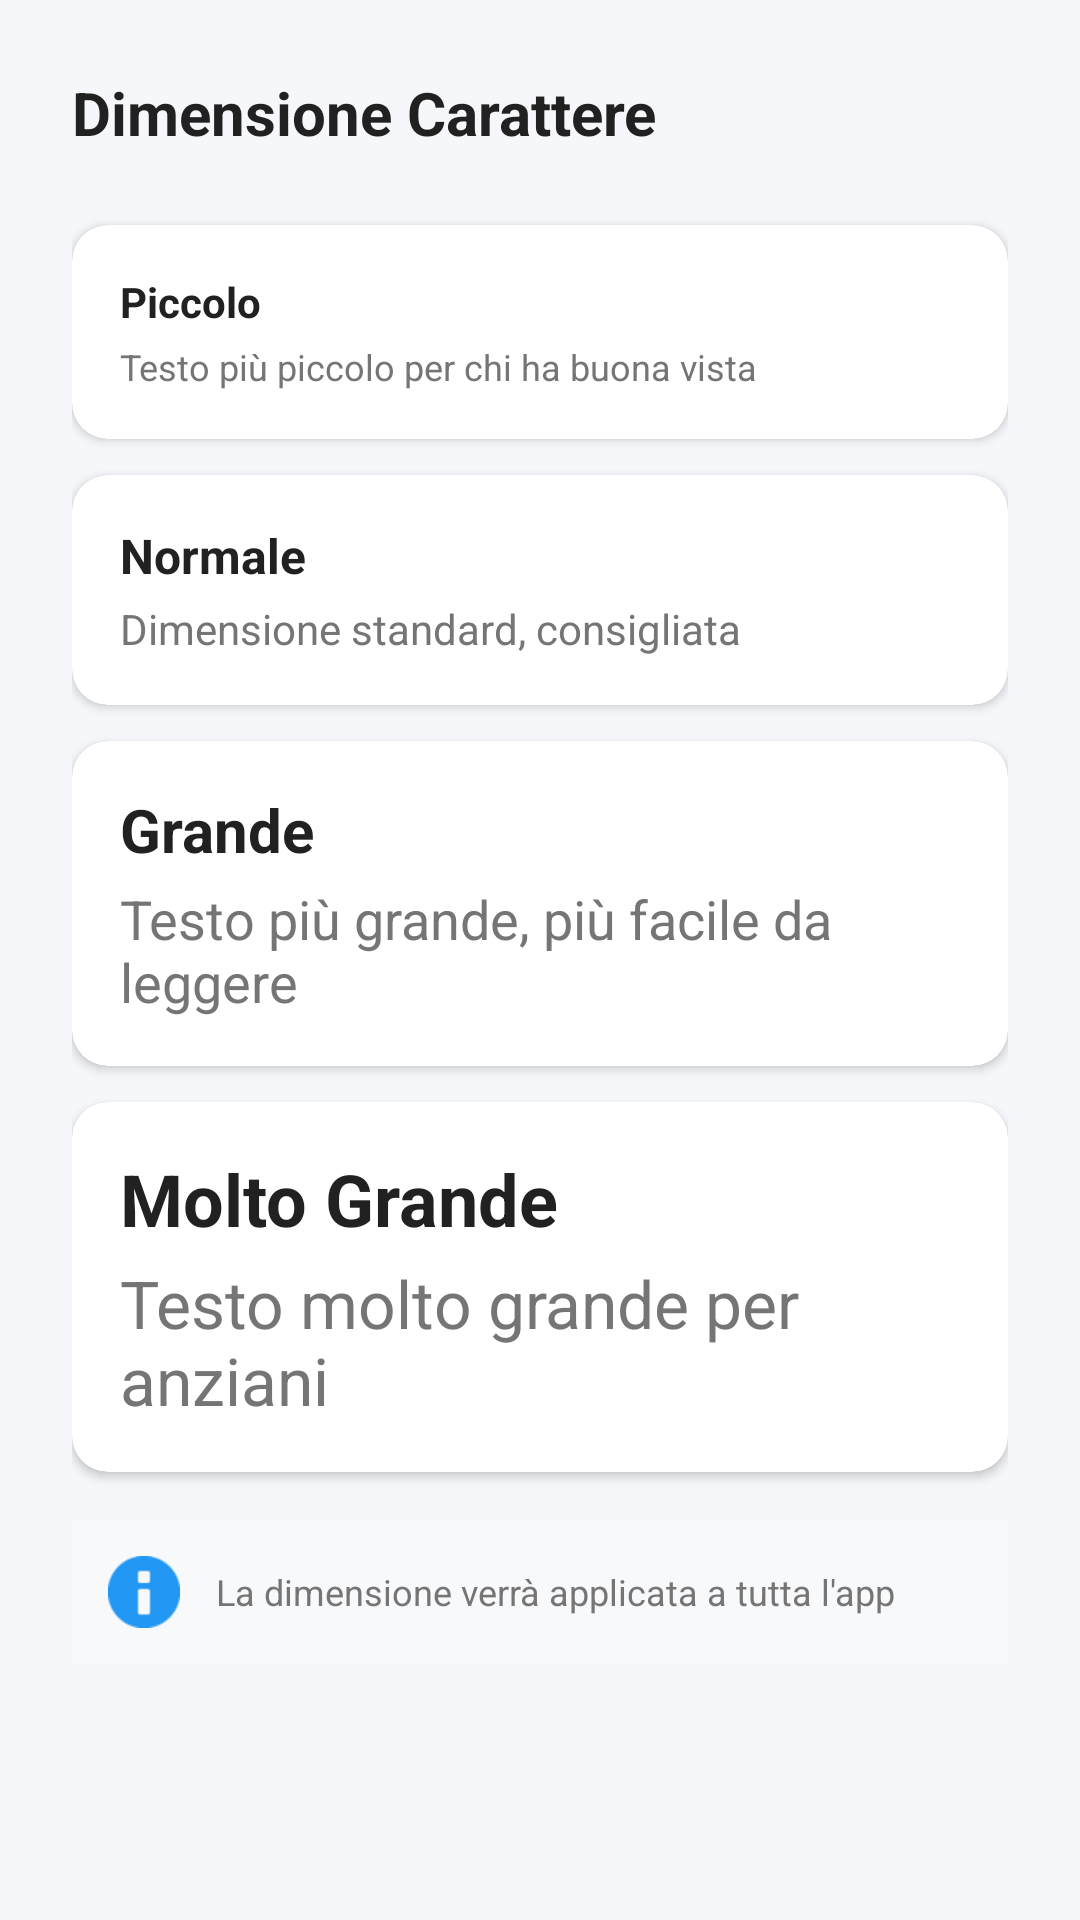

Locate icon controls on the screen. Image size 1080×1920, boxes as (x1=x1, y1=y1, x2=x2, y2=y2).
info: (x1=108, y1=1556, x2=180, y2=1628)
